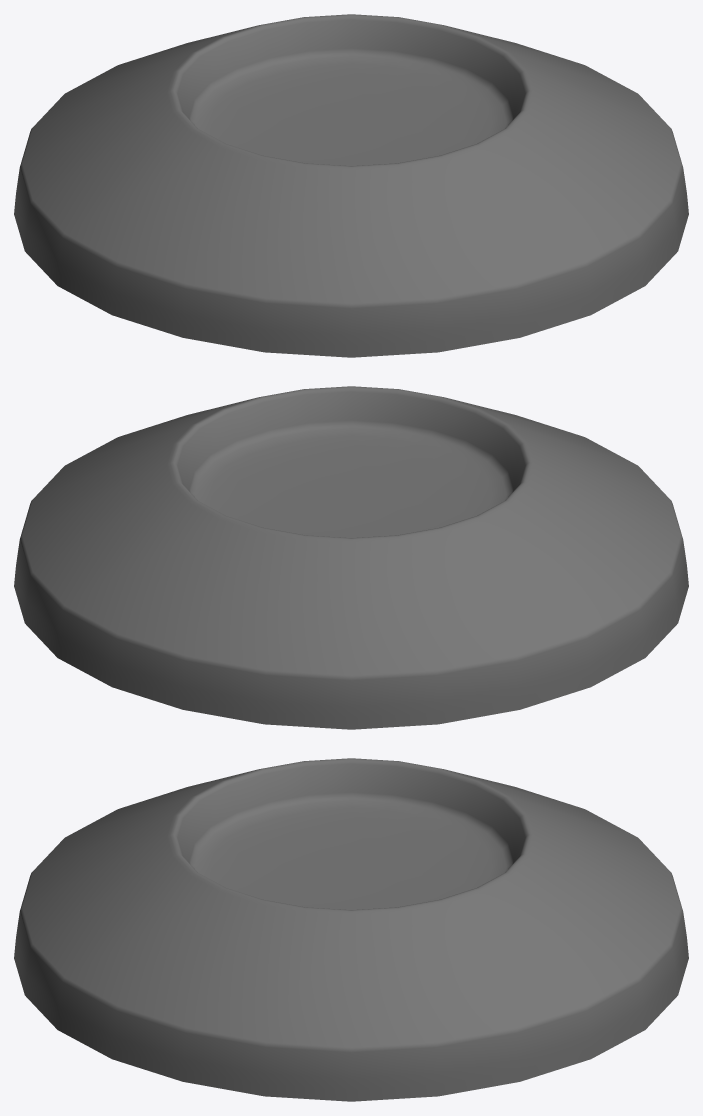
Rendered from SupportDeco_MESH.fbx.
The picture shows the model from 3 angles, top to bottom: view 1: azimuth 30°, elevation 25°; view 2: azimuth 150°, elevation 25°; view 3: azimuth 270°, elevation 25°; orthographic projection.
Visible parts, largest first — view 1: SupportDeco; view 2: SupportDeco; view 3: SupportDeco.
Part boxes in pixels (bbox=[...]): SupportDeco: bbox=[14, 14, 688, 357]; SupportDeco: bbox=[14, 386, 688, 729]; SupportDeco: bbox=[14, 758, 688, 1101].
Size of the model in its own units: 25.09 by 5.04 by 24.94.
1 material, 1 textured.
